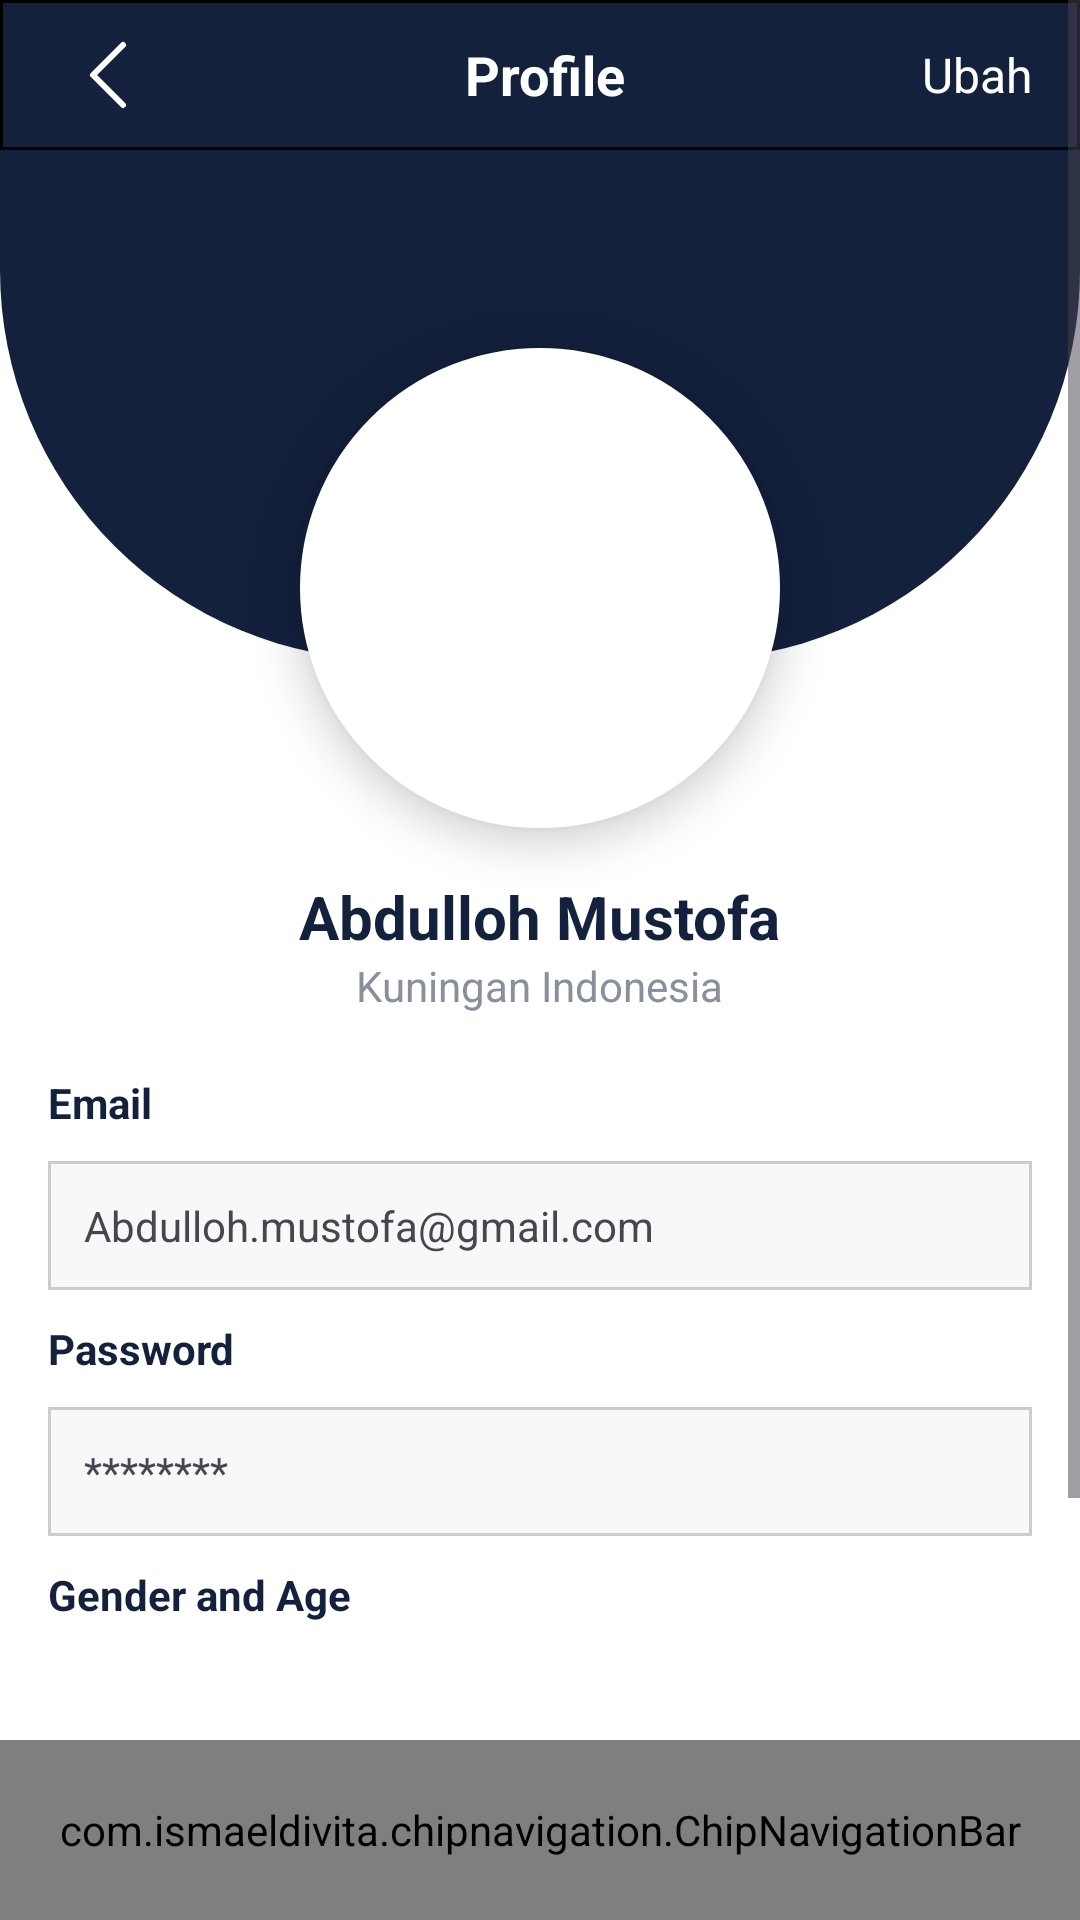

Where icons sit on this 1080px×1920px app screen, as (x1, y1, x2, y2):
Back: (90, 41, 126, 108)
